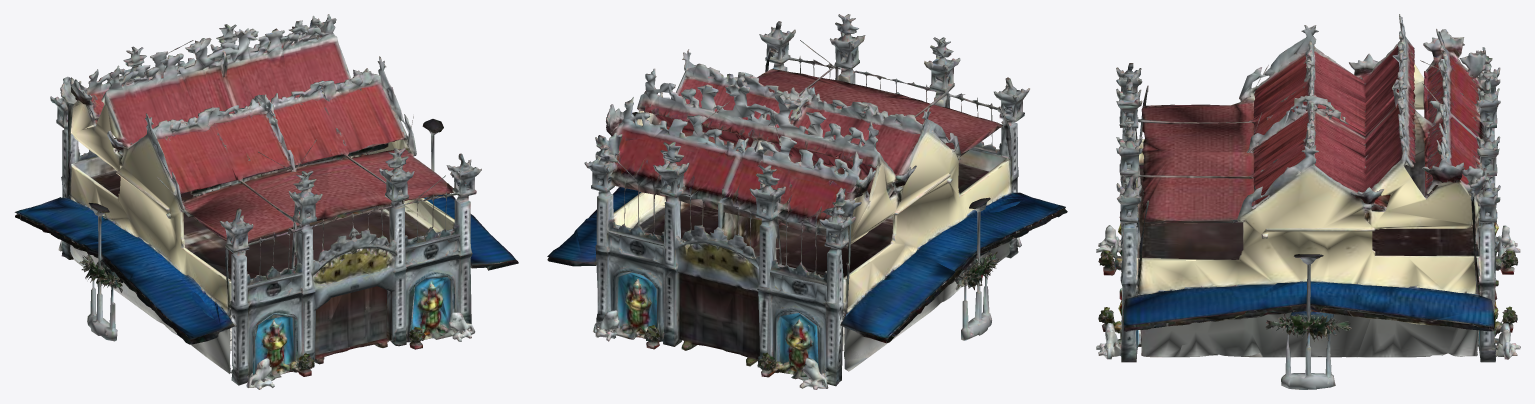
The model's file is dentamky.glb.
3 renders of one model, left to right at view 1: azimuth 30°, elevation 25°; view 2: azimuth 150°, elevation 25°; view 3: azimuth 270°, elevation 25°, orthographic. The views are drawn at different scales.
Visible parts, largest first — view 1: Mesh_0; view 2: Mesh_0; view 3: Mesh_0.
Boxes of the visible parts, x1,y1,x2,y2 form: Mesh_0: (14,14,518,389); Mesh_0: (547,14,1067,389); Mesh_0: (1096,14,1520,389).
Bounding box in the file's own units: 1.89 × 1.17 × 1.87.
Materials: 1 (1 with a texture image).
